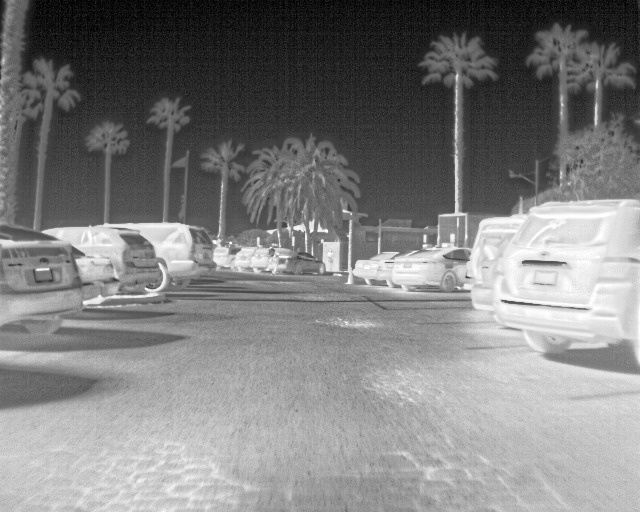vehicle: (499, 201, 640, 371), (36, 223, 158, 310), (1, 222, 80, 333), (110, 220, 215, 281), (394, 243, 474, 293), (251, 244, 324, 279), (352, 250, 407, 286)
